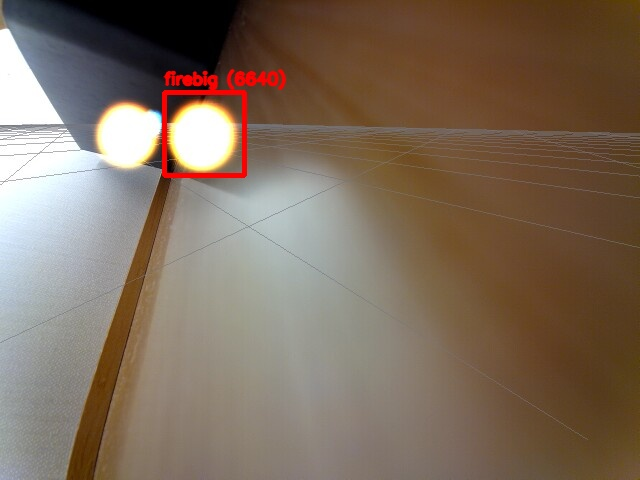firebig: (164, 92, 244, 175)
